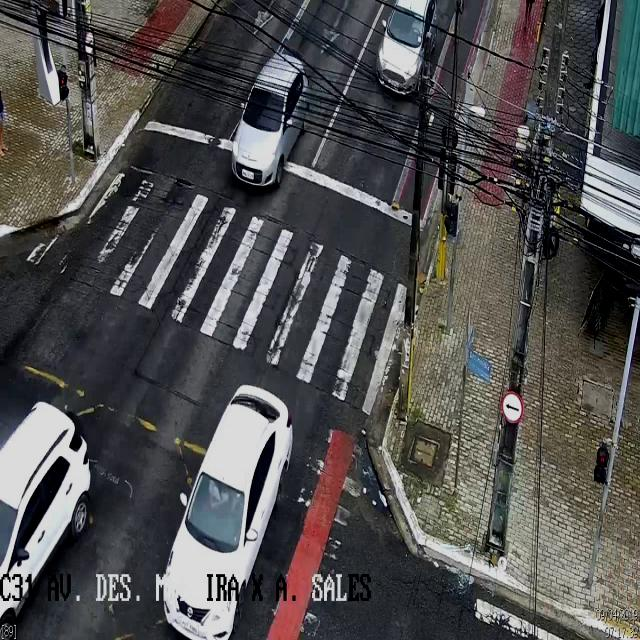Car: (162, 381, 292, 639), (0, 406, 90, 640), (230, 52, 310, 186), (379, 0, 443, 104)
